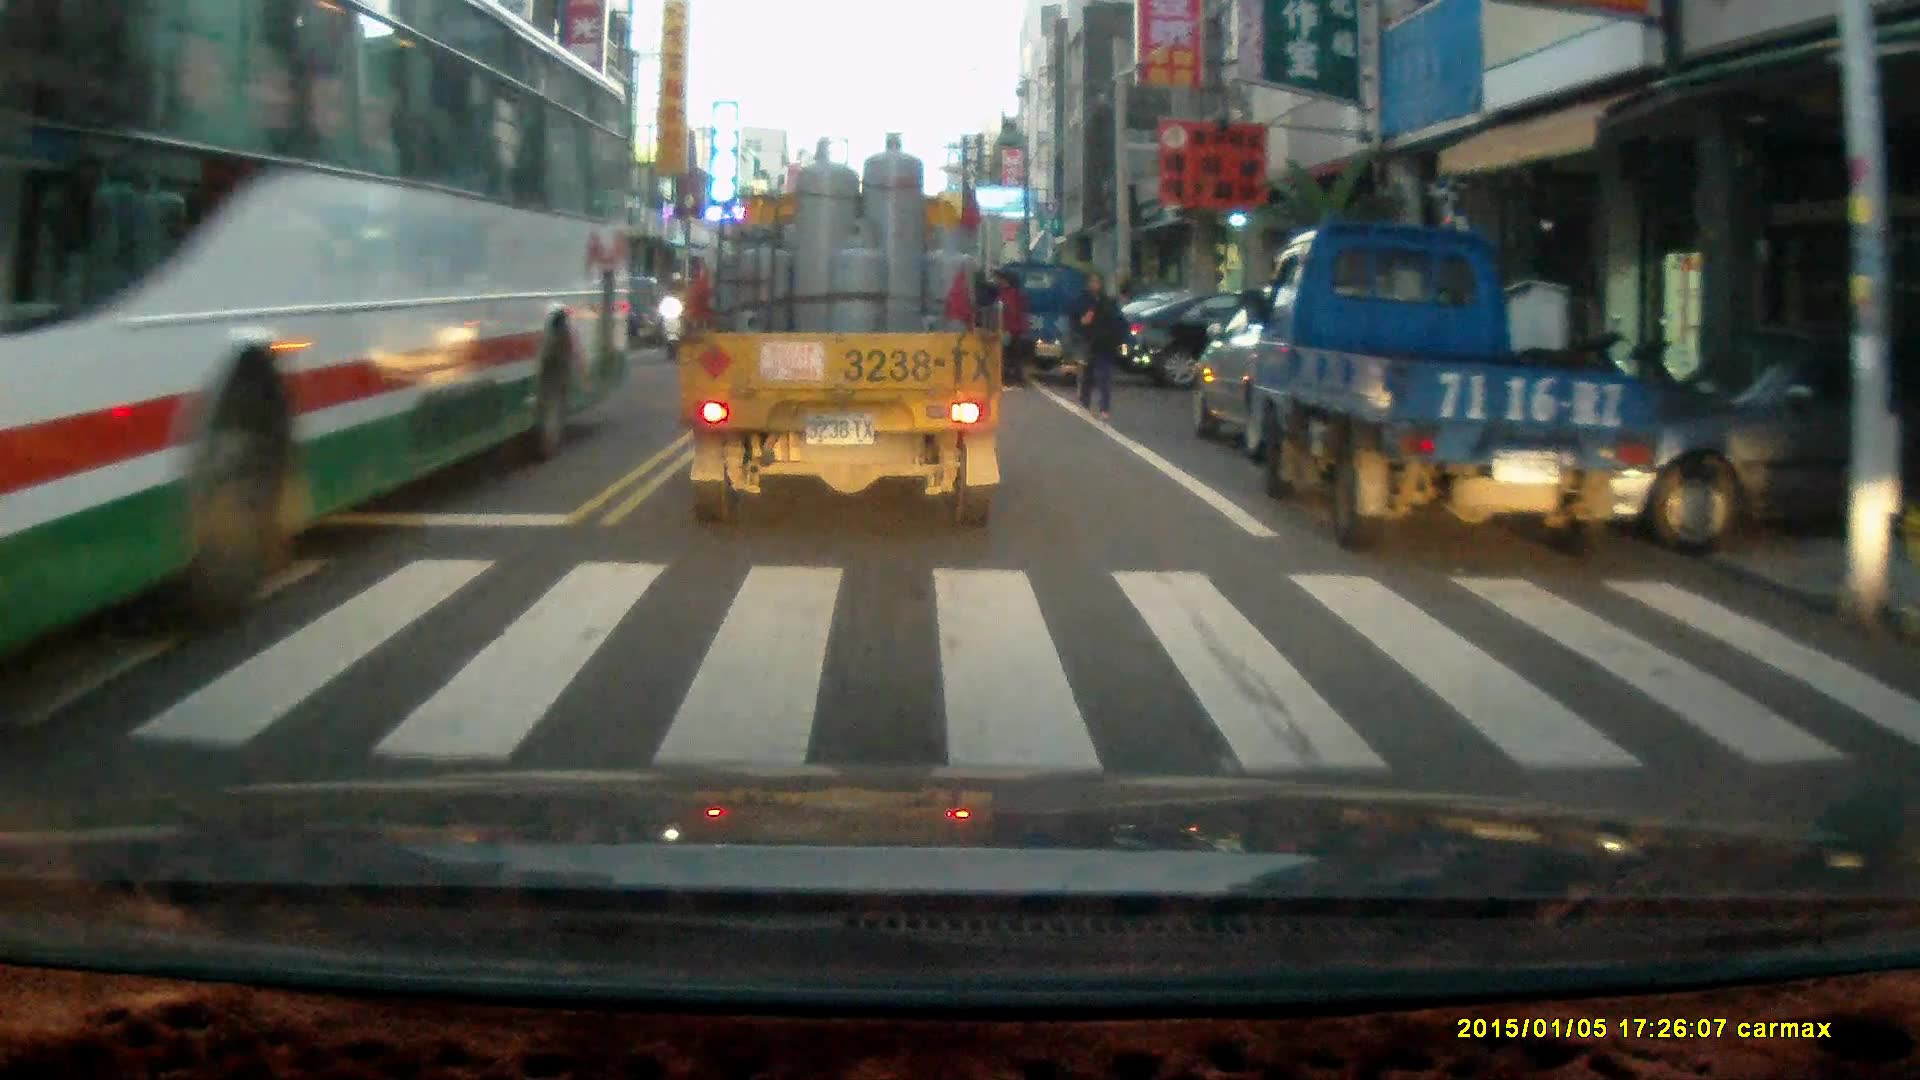pedestrian: (1070, 270, 1134, 420), (993, 267, 1028, 390)
rider: (657, 272, 694, 363)
vehicle: (1, 15, 631, 663), (1238, 217, 1656, 555), (677, 130, 1010, 533), (1186, 282, 1463, 470), (1118, 276, 1357, 392), (986, 260, 1109, 388)
